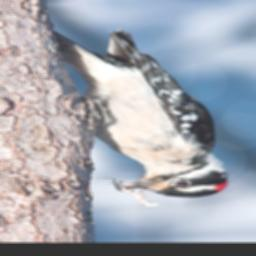Woodpecker: (58, 26, 232, 202)
